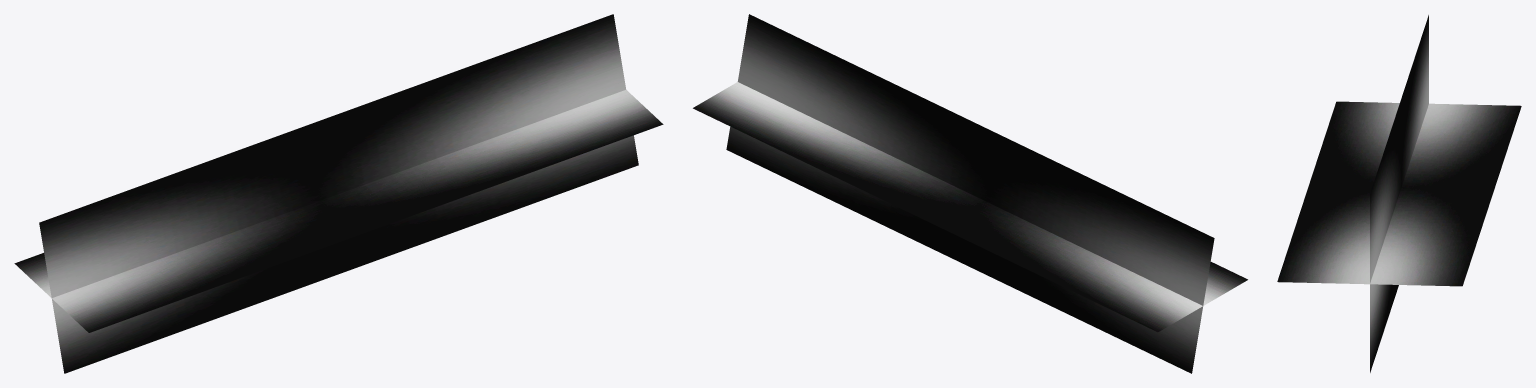
Rendered from vfx_kurp_1134.dae.
The picture shows the model from 3 angles, left to right: view 1: azimuth 30°, elevation 25°; view 2: azimuth 150°, elevation 25°; view 3: azimuth 270°, elevation 25°; orthographic projection. The views are drawn at different scales.
Visible parts, largest first — view 1: vfx_kurp_1134; view 2: vfx_kurp_1134; view 3: vfx_kurp_1134.
Boxes of the visible parts, x1,y1,x2,y2 form: vfx_kurp_1134: (14, 14, 663, 373); vfx_kurp_1134: (693, 14, 1247, 373); vfx_kurp_1134: (1277, 15, 1521, 372).
Bounding box in the file's own units: 8.44 × 2.96 × 3.57.
1 material, 1 textured.
